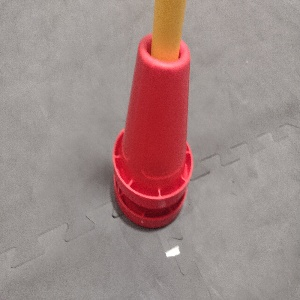Red_2: (112, 34, 193, 229)
